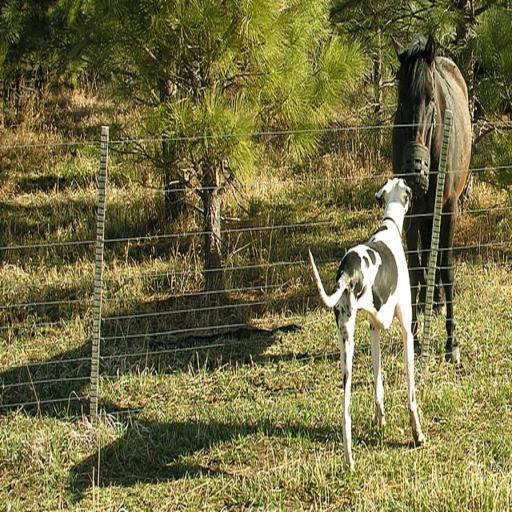horse: (388, 30, 472, 367)
